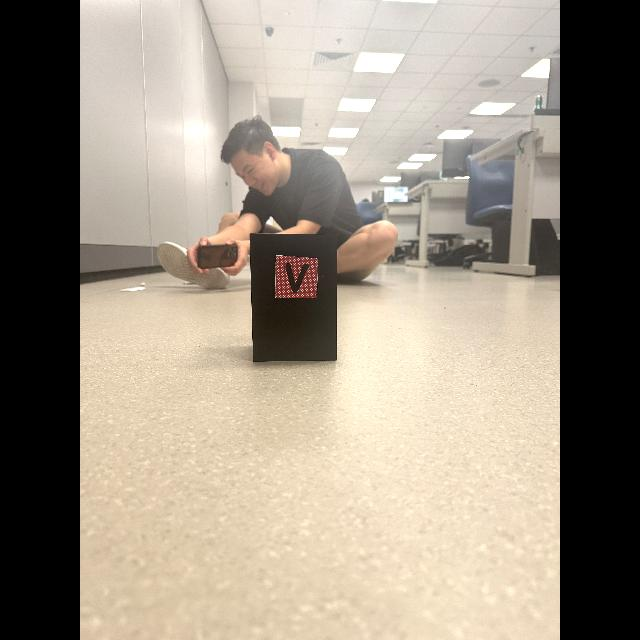V: (286, 263, 309, 293)
